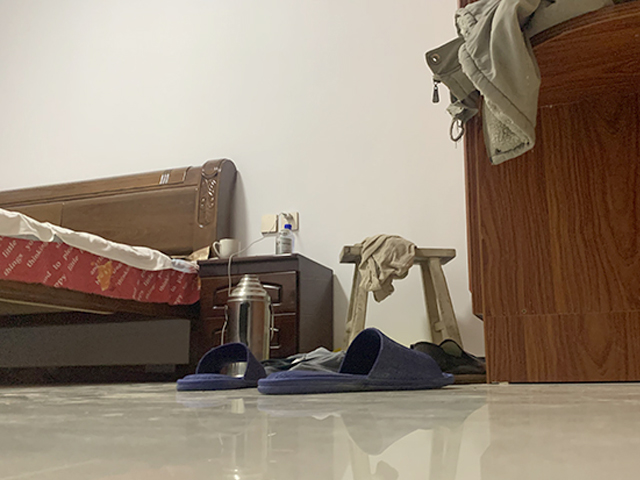bed: (1, 157, 237, 376)
cabinet: (188, 253, 335, 374)
slippers: (256, 324, 457, 394), (176, 342, 265, 396)
